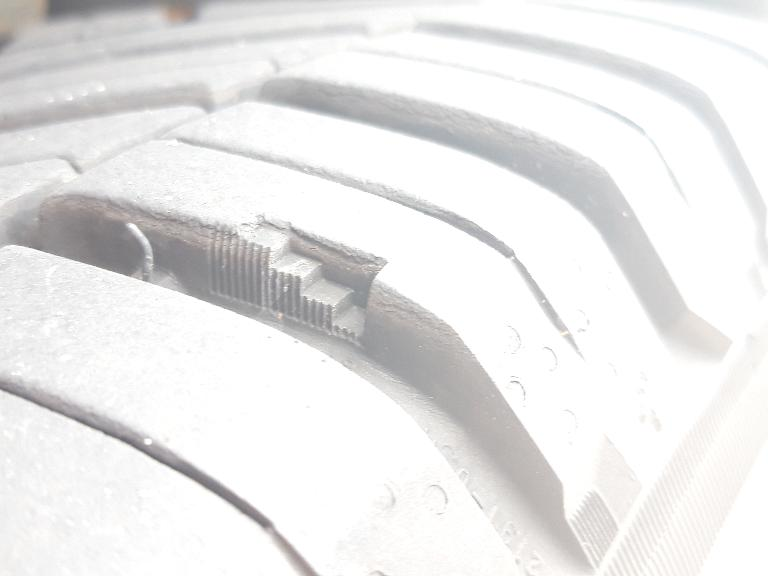temoin:90: (199, 200, 396, 362)
